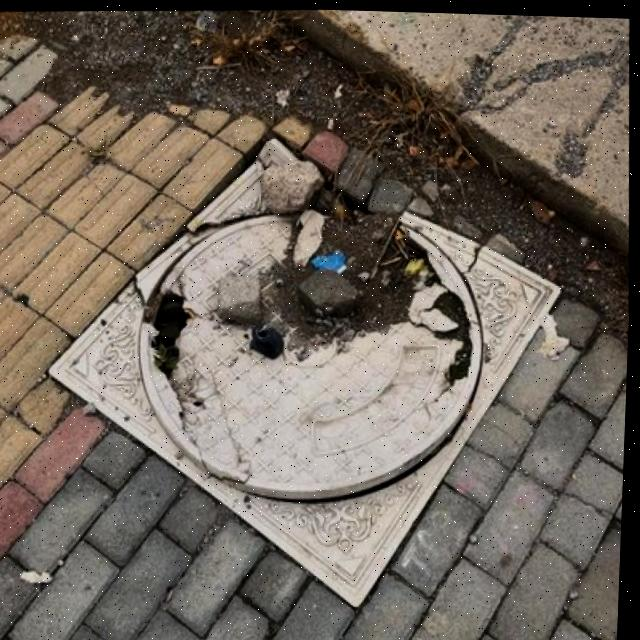manhole: (55, 131, 564, 603)
